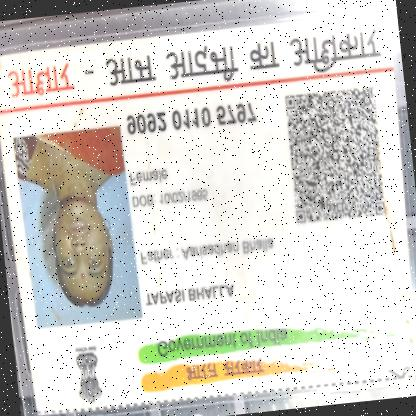aadhaar_card: (0, 3, 415, 415)
